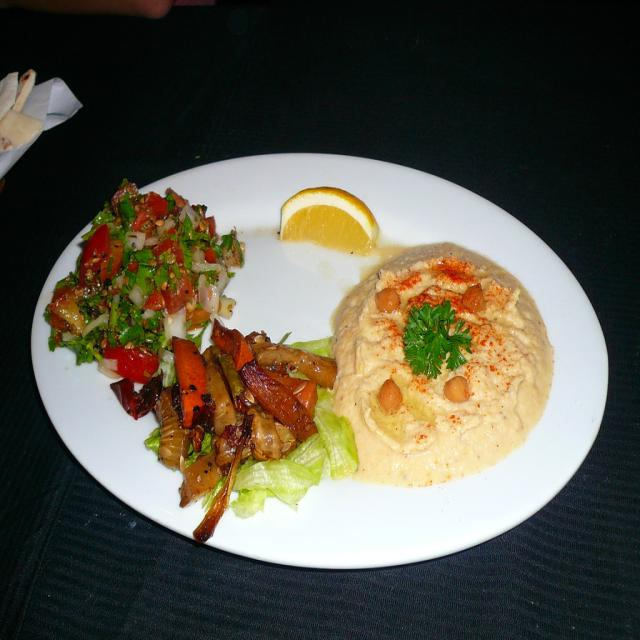Lemon: (278, 186, 378, 255)
